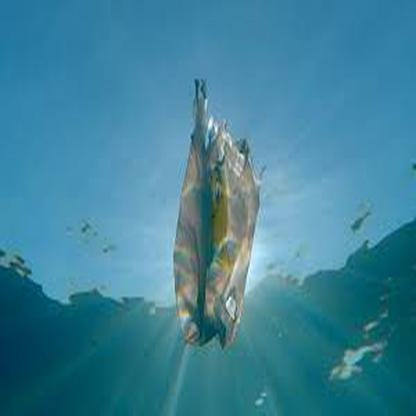plastic bag: (171, 78, 259, 355)
